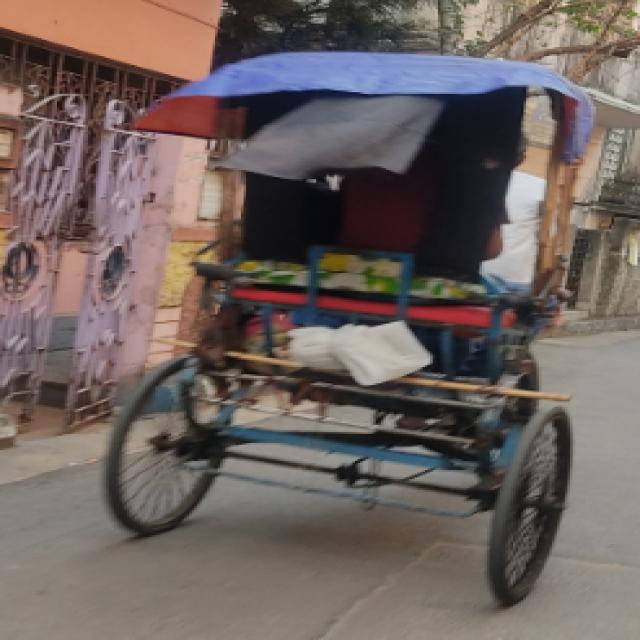rickshaw: (96, 51, 593, 611)
